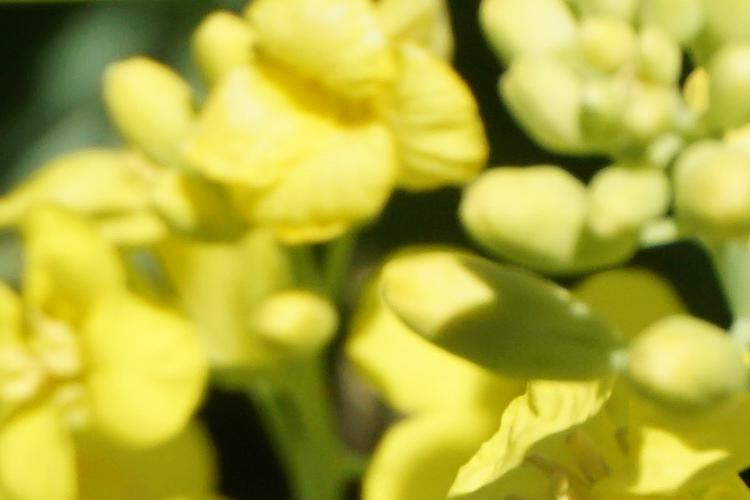bud: (382, 251, 620, 386), (457, 166, 639, 282), (628, 302, 740, 414), (586, 159, 674, 239)
yellow: (45, 60, 387, 295), (2, 205, 226, 492), (225, 19, 486, 229)
